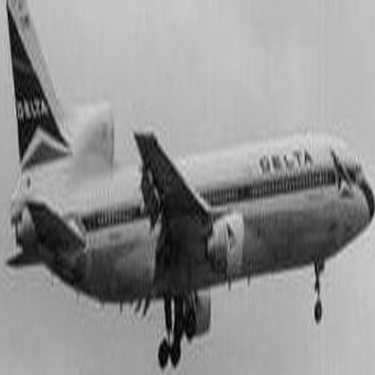airplane: (4, 4, 373, 373)
